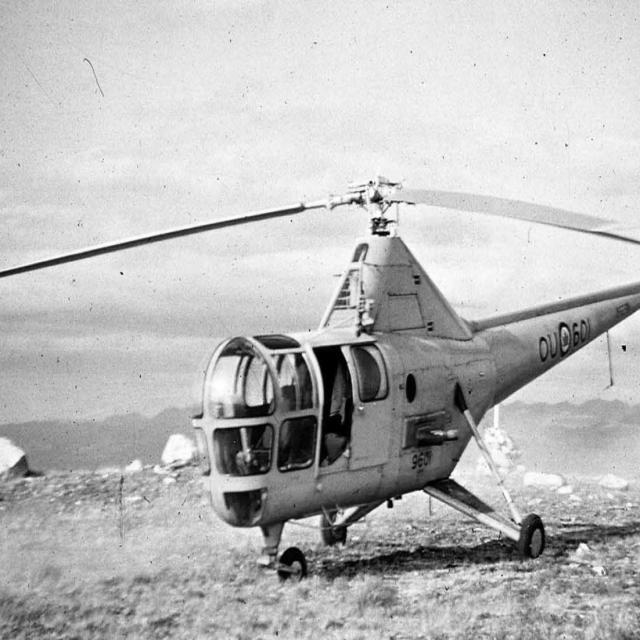helicopter: (1, 171, 640, 590)
